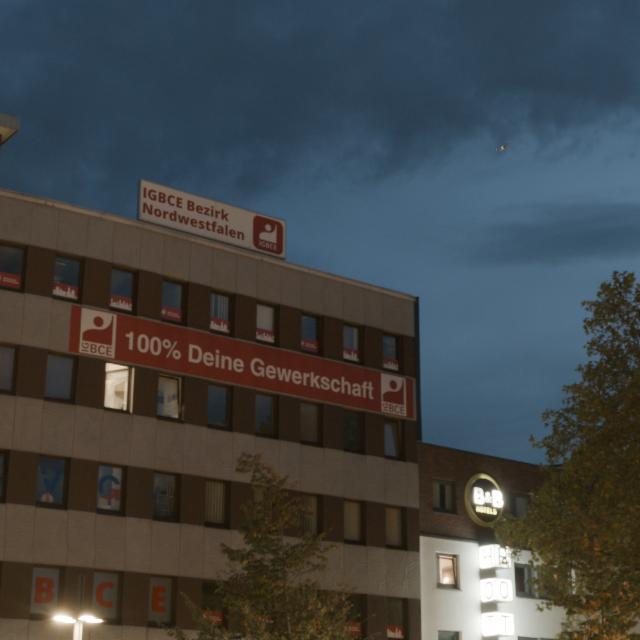Airaplan: (496, 142, 510, 153)
